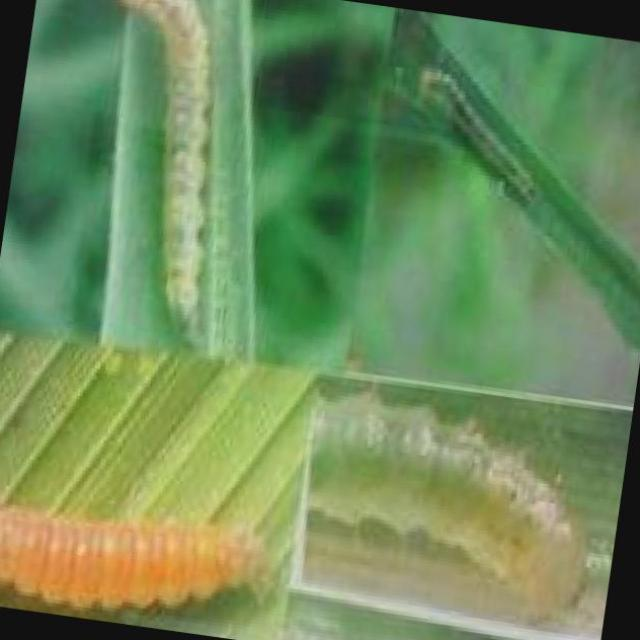leaf folder: (305, 403, 588, 623), (119, 0, 211, 319), (0, 507, 256, 607), (418, 44, 537, 208)
